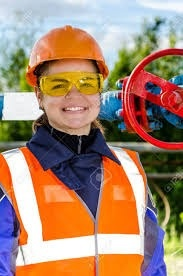helmet: (24, 25, 108, 86)
person with full safety: (1, 23, 167, 275)
safety vest: (3, 145, 146, 273)
